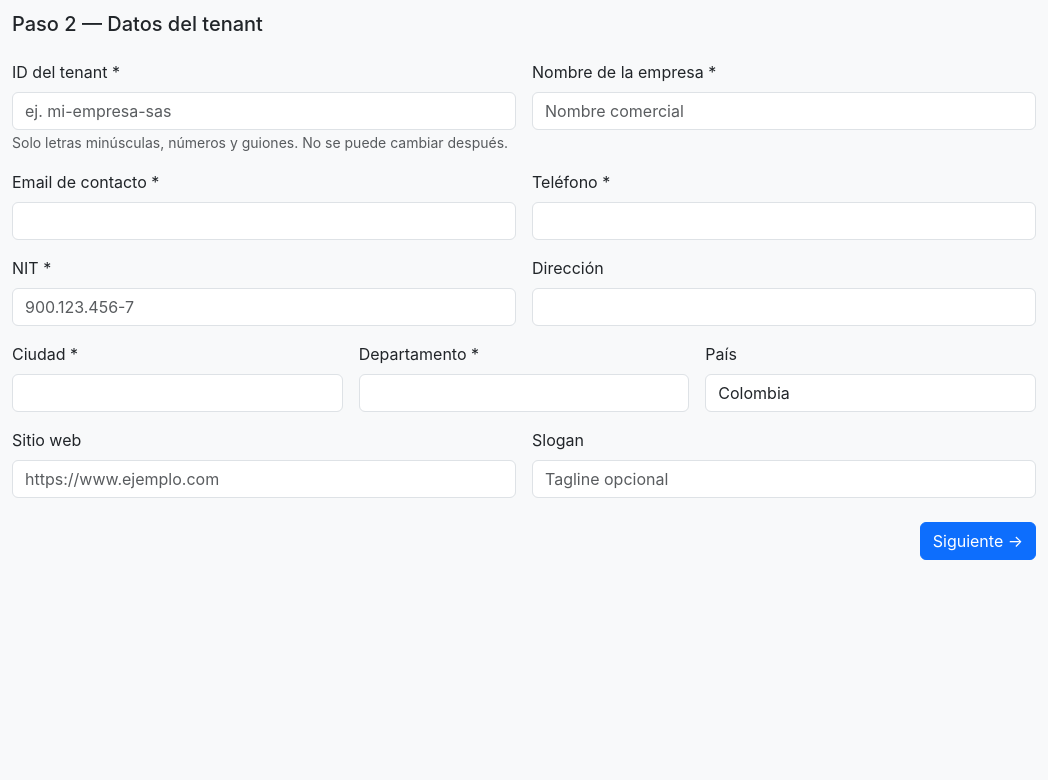
Test case: Step1TenantData requireOrgData › blocks submit until nit, ciudad, departamento, email and teléfono are filled
Type "acme-sas" into the field with placeholder "ej. mi-empresa-sas". click: (264, 111)
box: top-left (12, 92), bottom-right (516, 130)
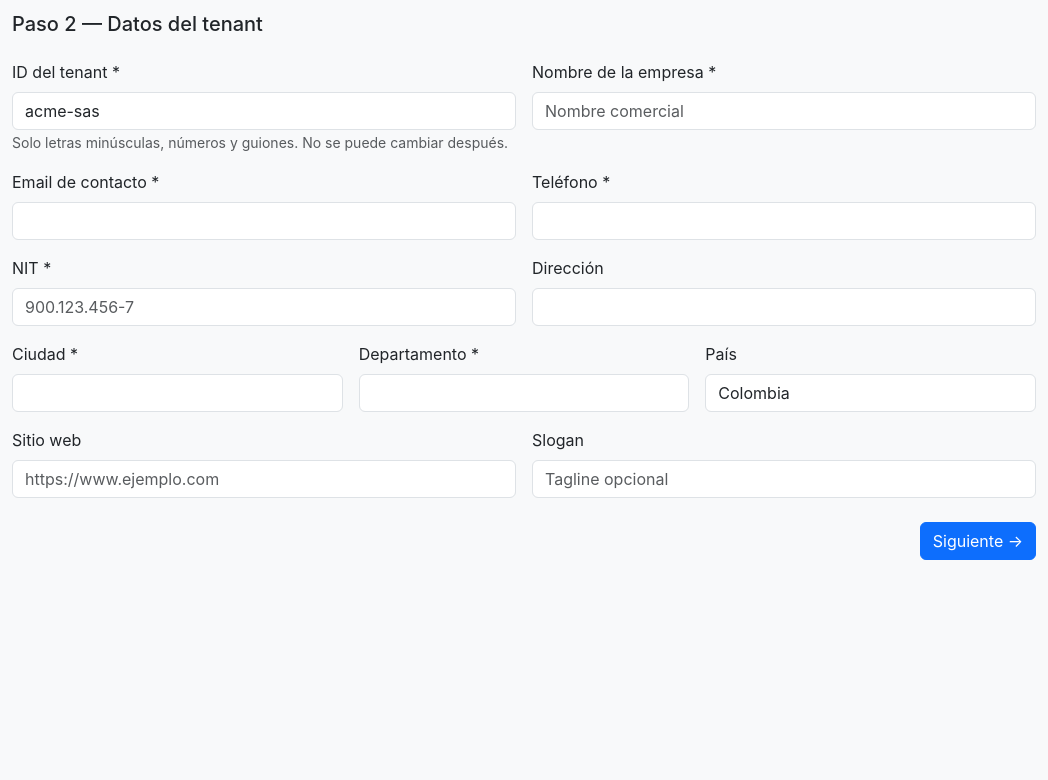
Type "Acme SAS" into the field with placeholder "Nombre comercial". click: (784, 111)
box: top-left (532, 92), bottom-right (1036, 130)
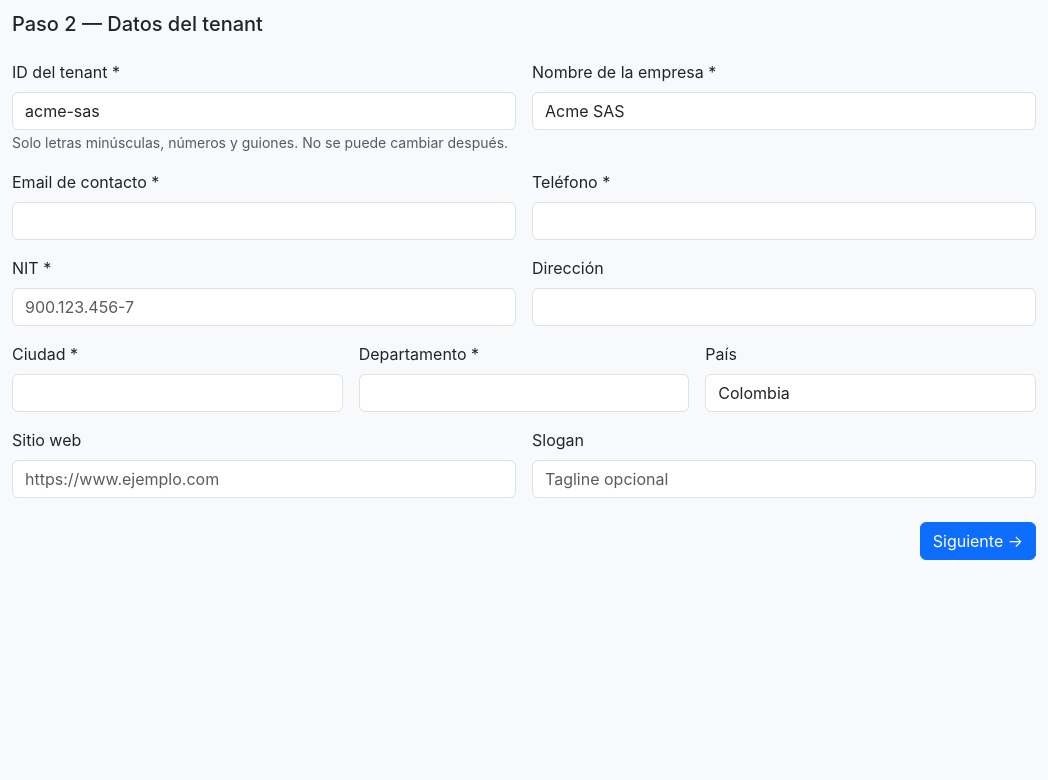
Click the button "Siguiente →". click: (978, 541)
box: top-left (920, 522), bottom-right (1036, 560)
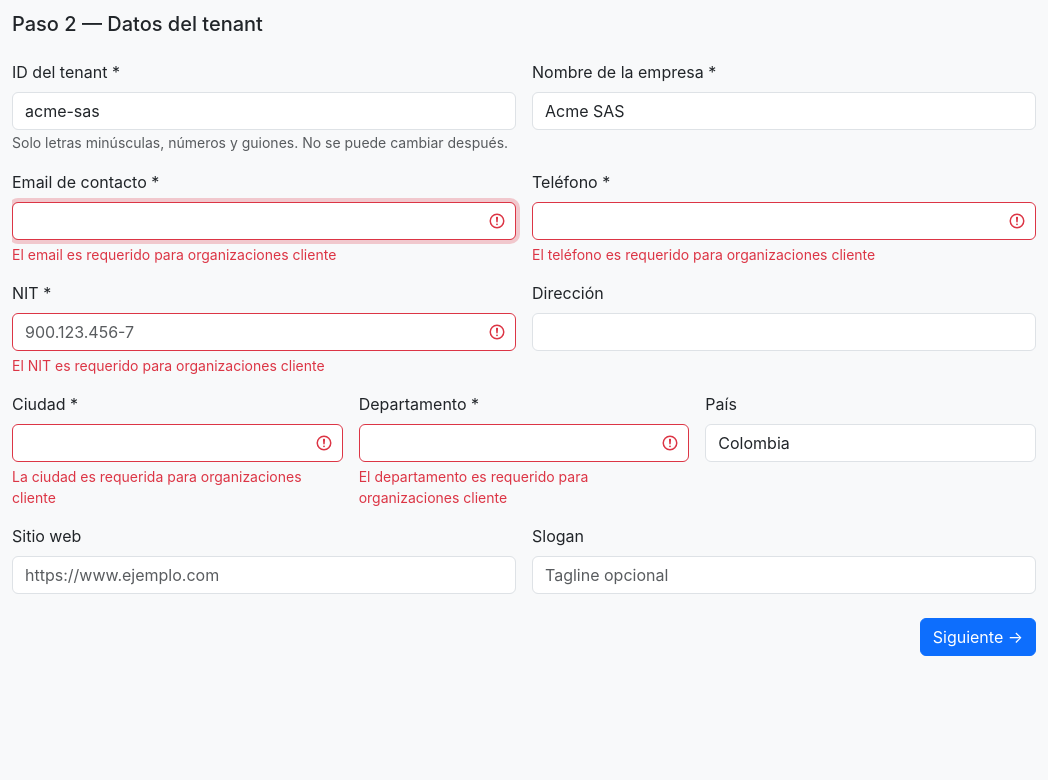
Expected: the text "El NIT es requerido para organizaciones cliente" is shown, top-left (12, 357), bottom-right (325, 374)
Expected: the text "El teléfono es requerido para organizaciones cliente" is shown, top-left (532, 246), bottom-right (875, 263)
Expected: the text "La ciudad es requerida para organizaciones cliente" is shown, top-left (12, 466), bottom-right (343, 508)
